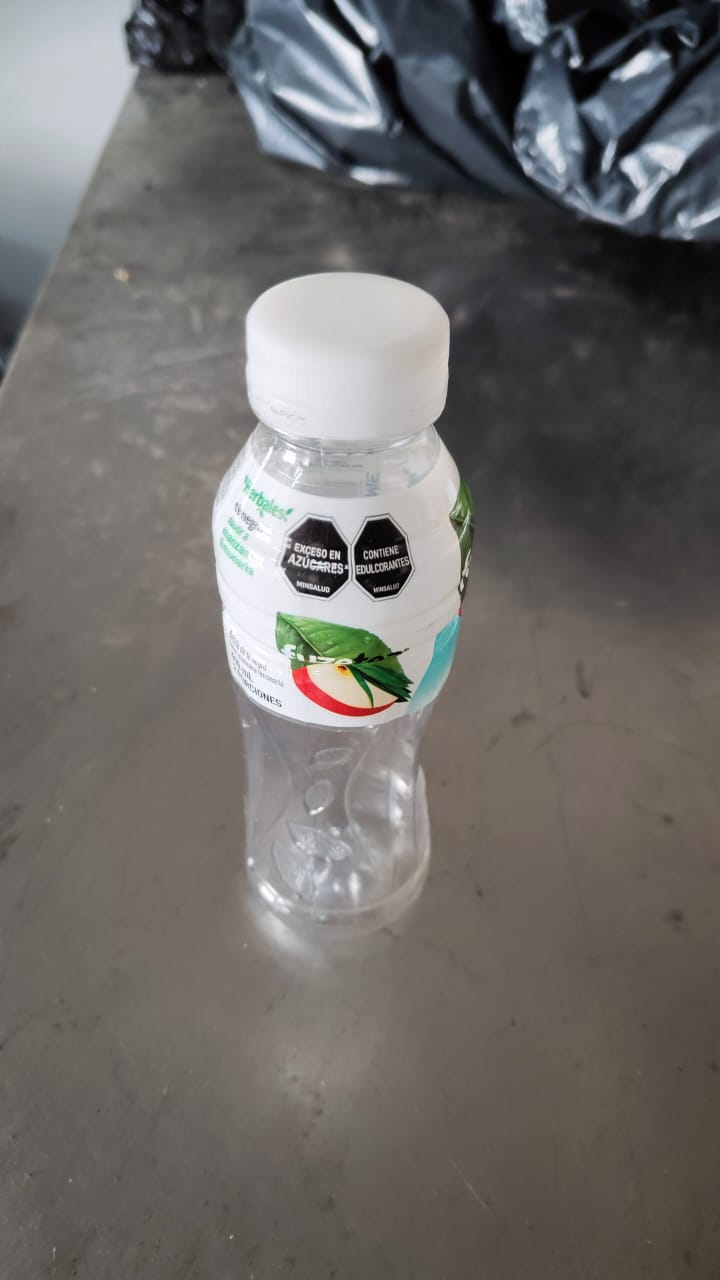Plastico: (212, 273, 470, 937)
